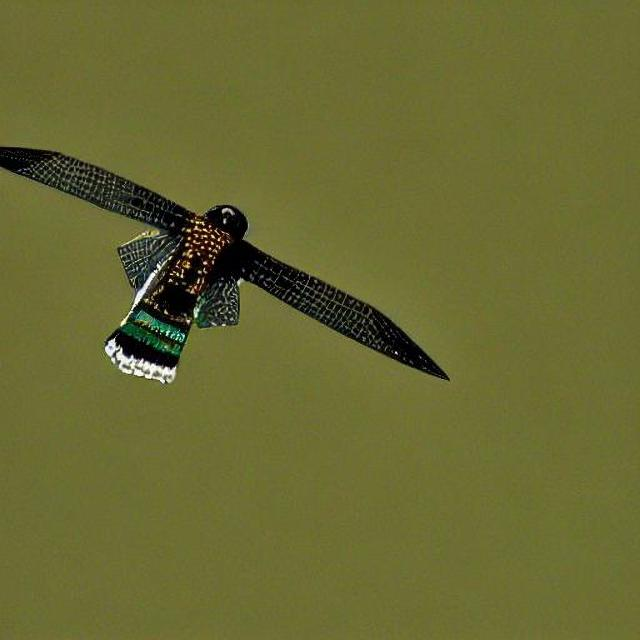floating object: (8, 137, 468, 411)
